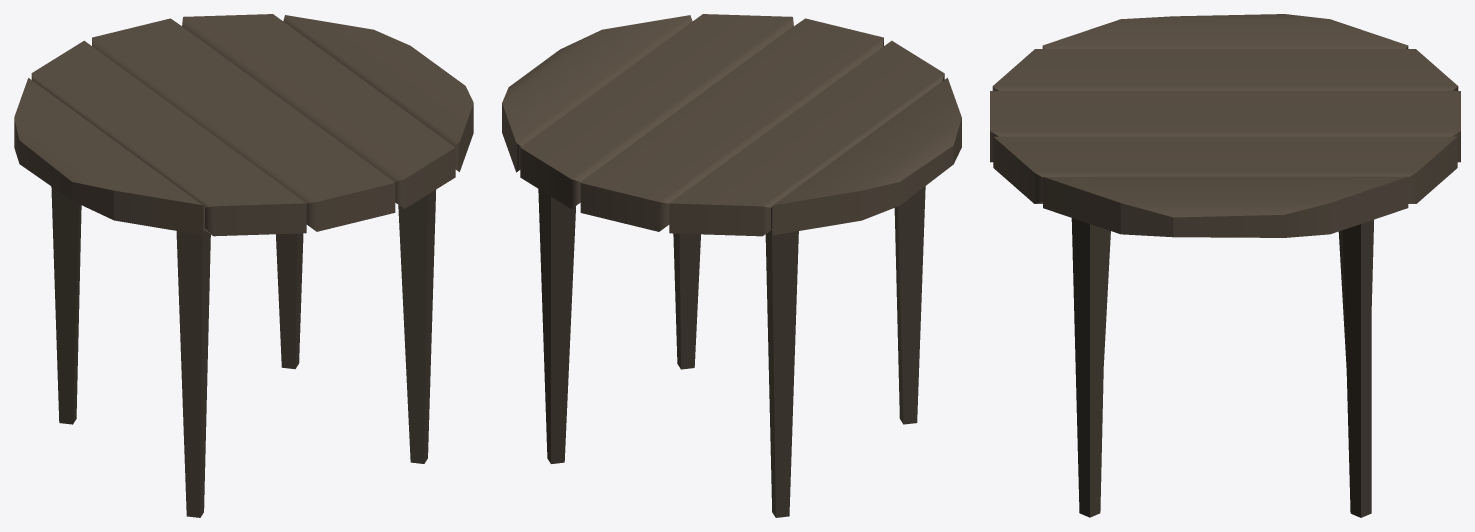
Rendered from SM_Prop_Table_01.glb.
3 renders of one model, left to right at view 1: azimuth 30°, elevation 25°; view 2: azimuth 150°, elevation 25°; view 3: azimuth 270°, elevation 25°, orthographic. The views are drawn at different scales.
Parts seen in each view (by area): view 1: SM_Prop_Table_01; view 2: SM_Prop_Table_01; view 3: SM_Prop_Table_01.
Part boxes in pixels (bbox=[...]): SM_Prop_Table_01: bbox=[14, 14, 473, 517]; SM_Prop_Table_01: bbox=[502, 14, 961, 517]; SM_Prop_Table_01: bbox=[990, 14, 1460, 517].
Size of the model in its own units: 0.0118 by 0.00948 by 0.0117.
